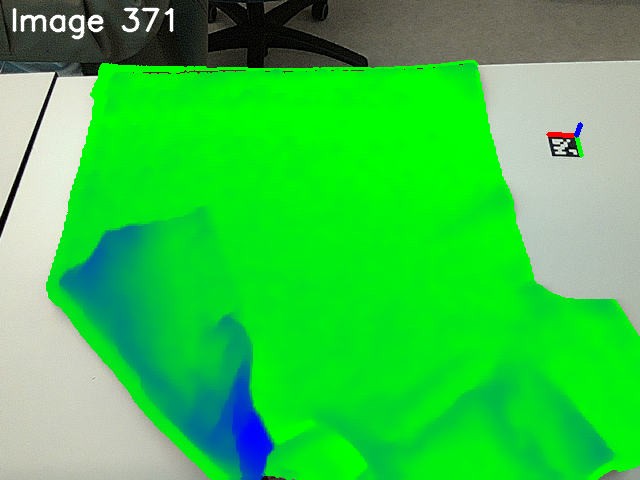V: (162, 194, 225, 255)
